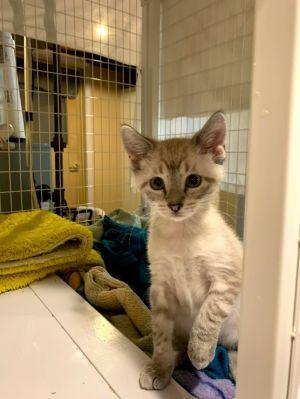siamese: (118, 108, 232, 230)
